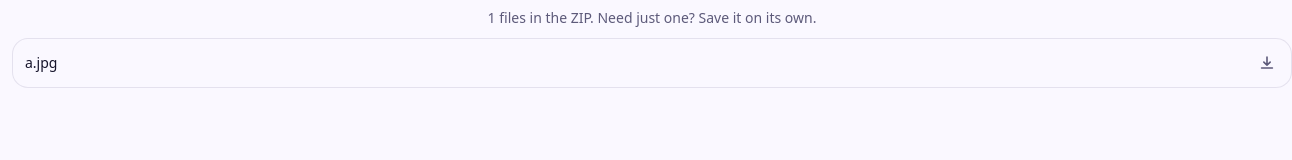
Test: ZipContents › points to the ZIP when a file cannot be taken out
Click the button named "Save a.jpg" at (1267, 63), box [1249, 45, 1285, 81]
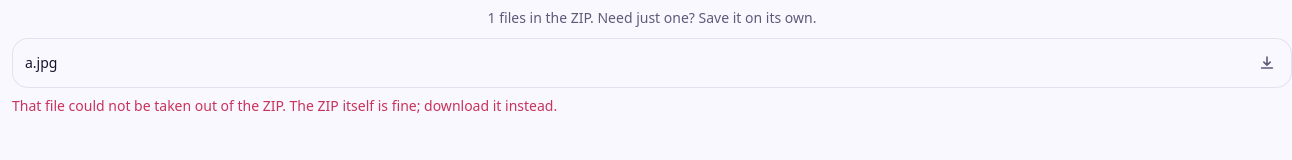
Check: the message shows "download it instead", box [12, 96, 557, 115]
